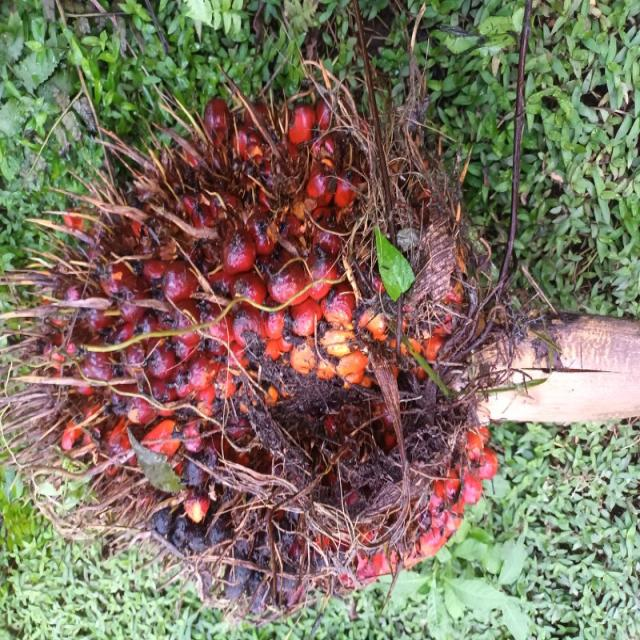fraksi 3: (105, 12, 626, 582)
